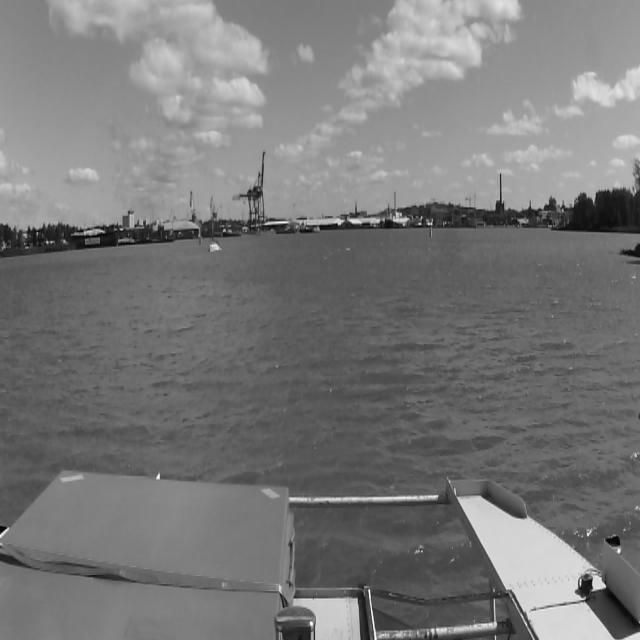buoy: (427, 220, 433, 240), (200, 234, 202, 244)
ship: (210, 208, 220, 252), (384, 202, 394, 228)
